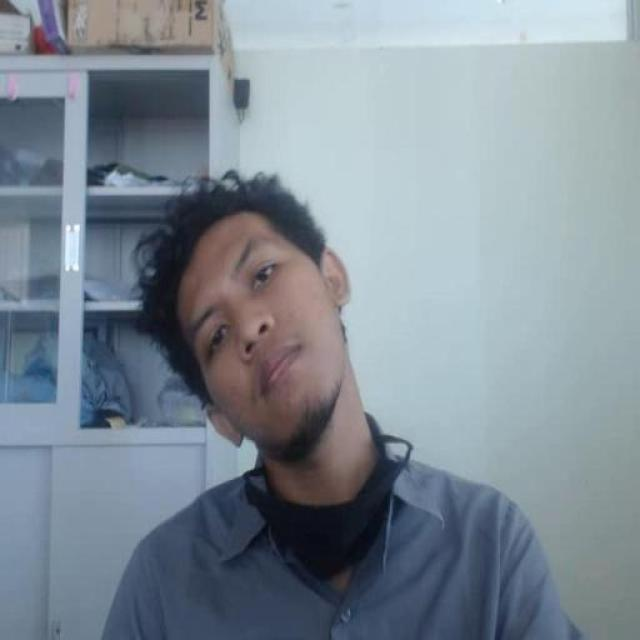bareface: (168, 193, 338, 448)
